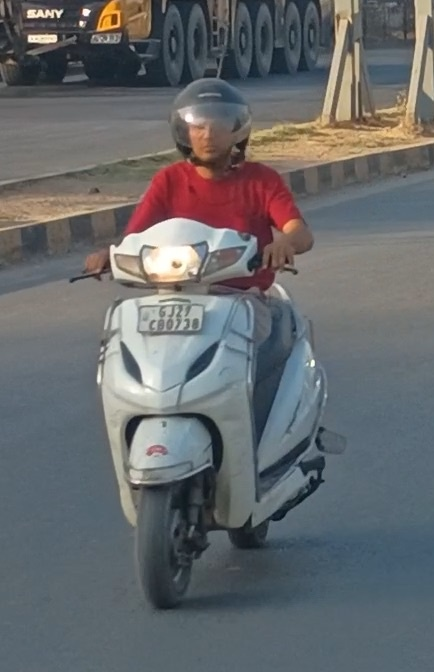BikeWithRider: (55, 67, 375, 634)
Helmet: (167, 66, 260, 171)
